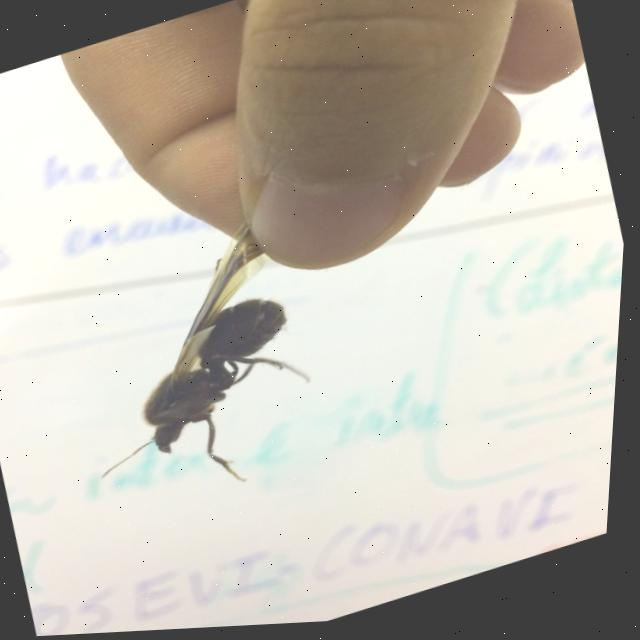Alive-Female-Alate: (52, 205, 350, 527)
